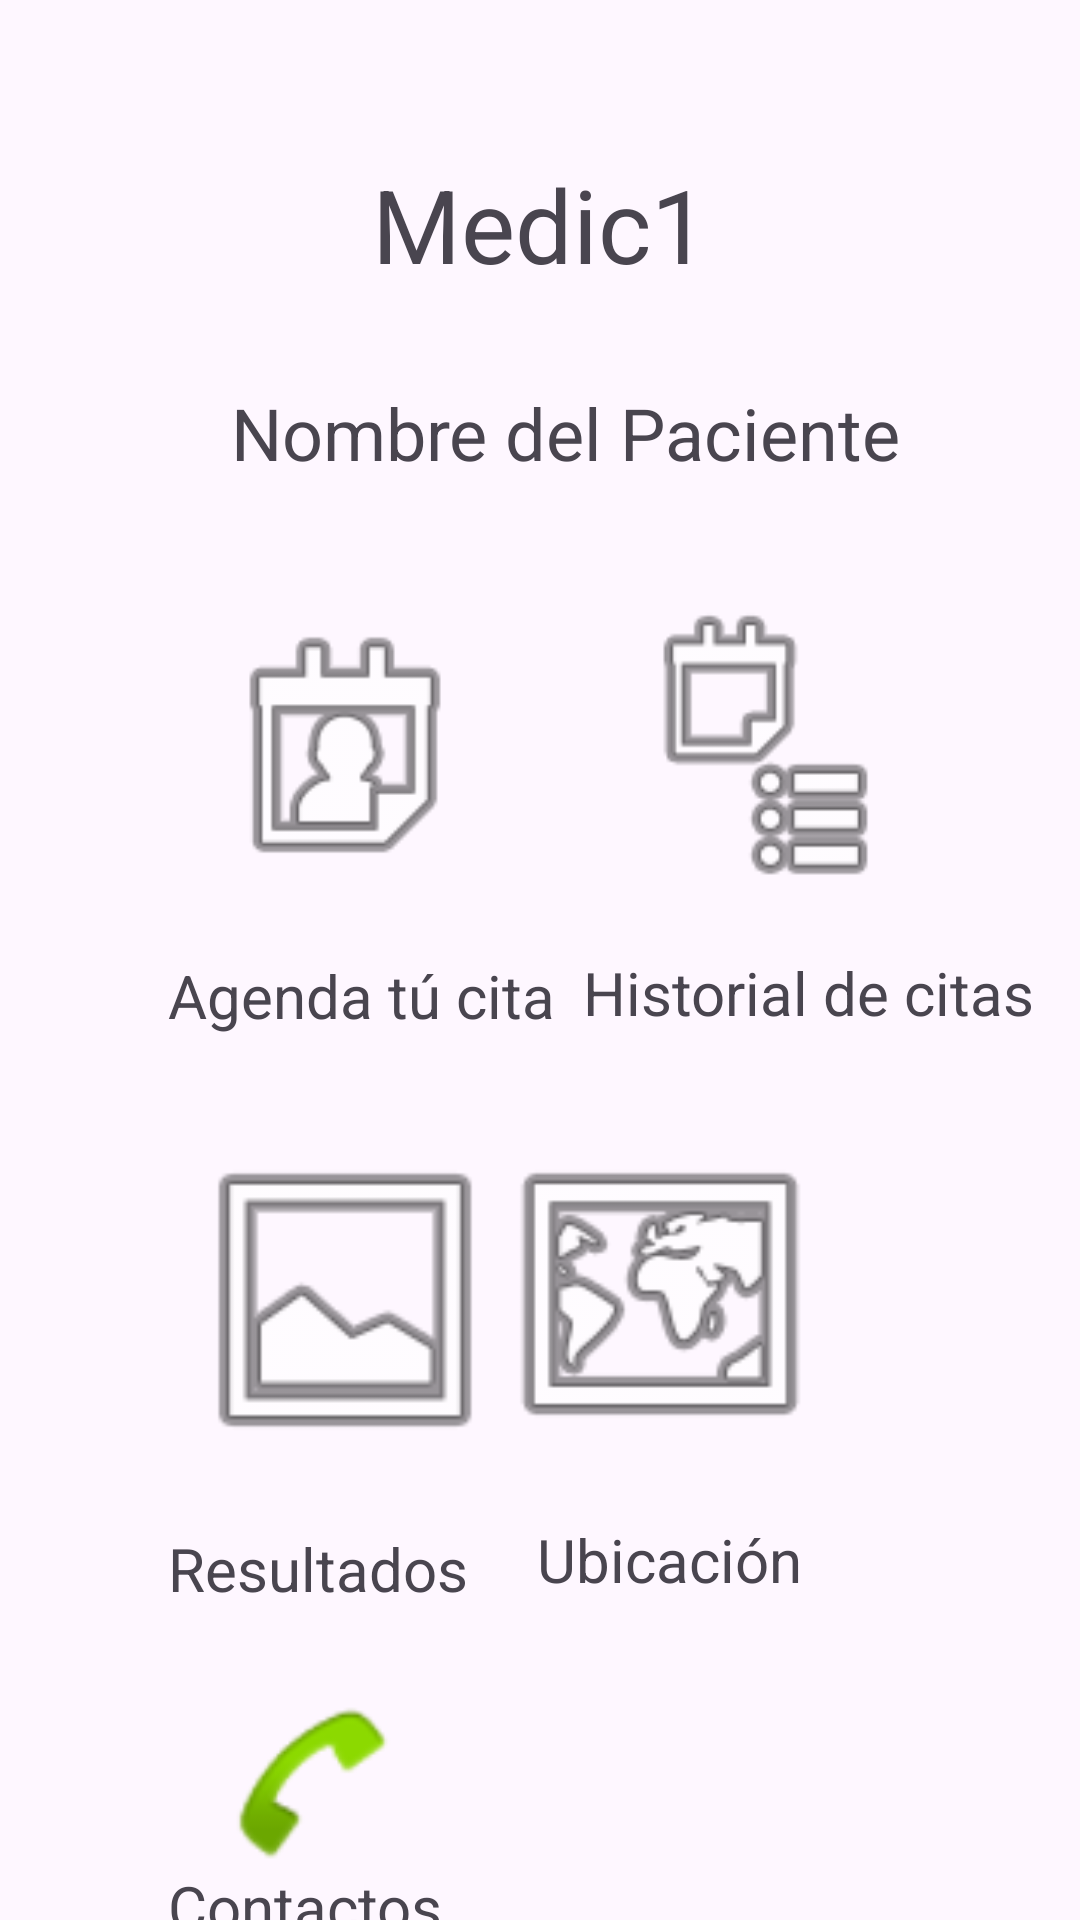

Named icons in this screenshot (1080 × 1920) and their centers, point (x, y):
gallery: point (345, 1300)
mapmode: point (660, 1294)
sym action call: point (312, 1783)
